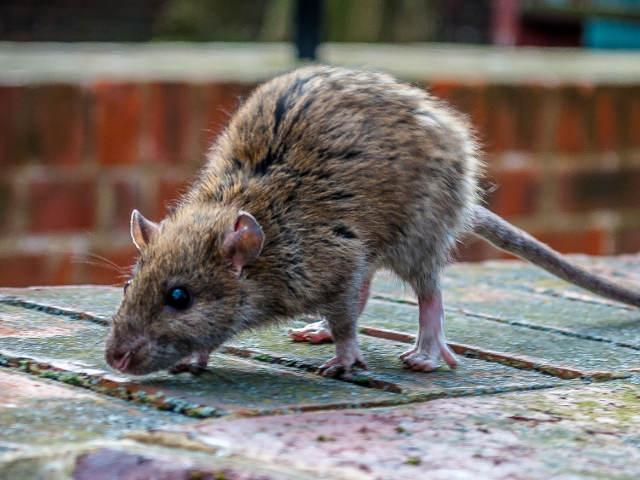rat: (90, 56, 522, 376)
